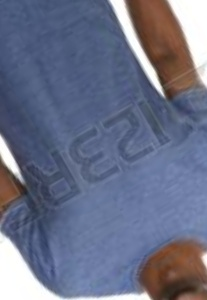arm: (124, 1, 203, 93), (1, 178, 44, 225)
chest: (1, 1, 142, 177)
neck: (138, 237, 207, 288)
